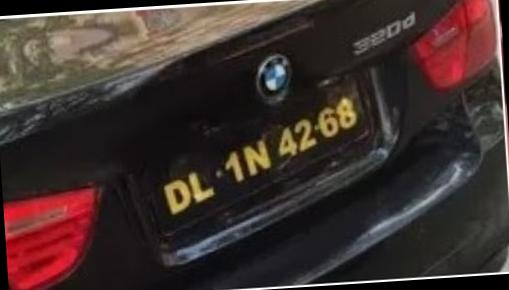plate: (122, 100, 403, 215)
